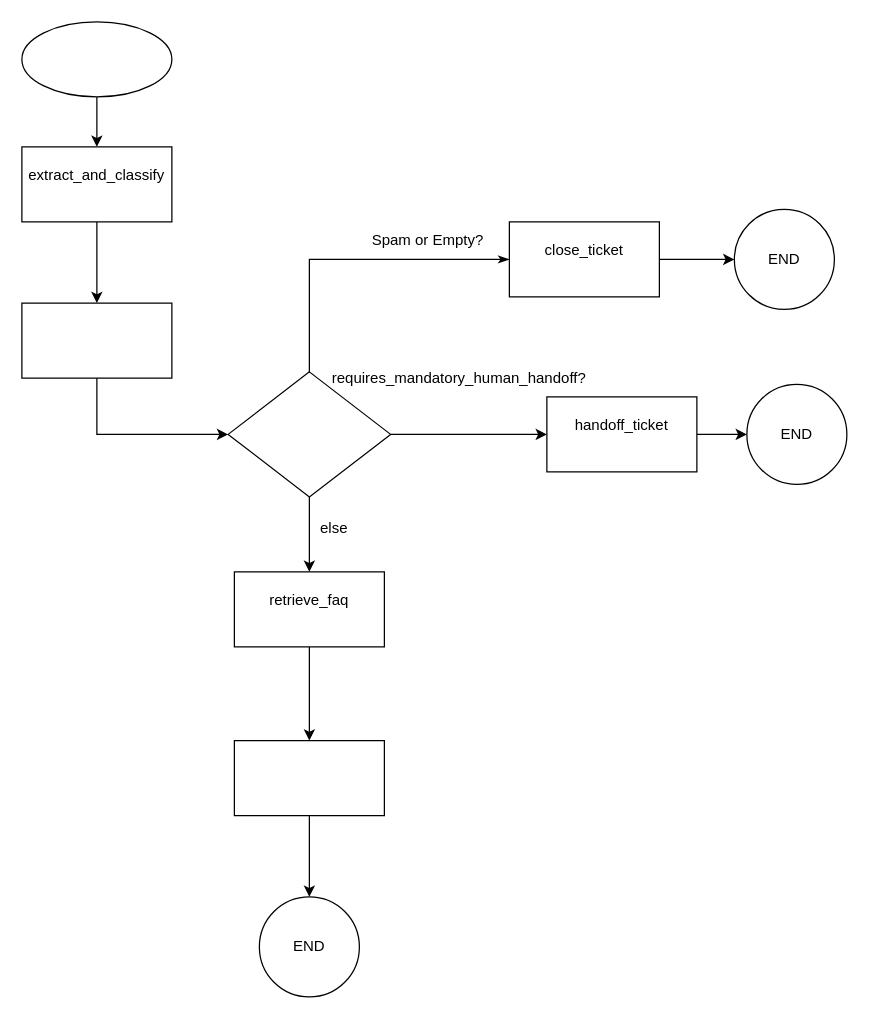
Image size: 869x1019. Some labels were removed from this diagram. Each missing label, with the centre of its shape:
assign_priority: [96,340]
decide_and_draft (reply if covered by FAQ, else handoff): [308,777]
RAG_decision_router: [309,434]
START: [96,59]
